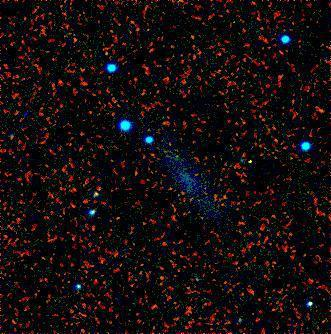star: (237, 147, 267, 177)
